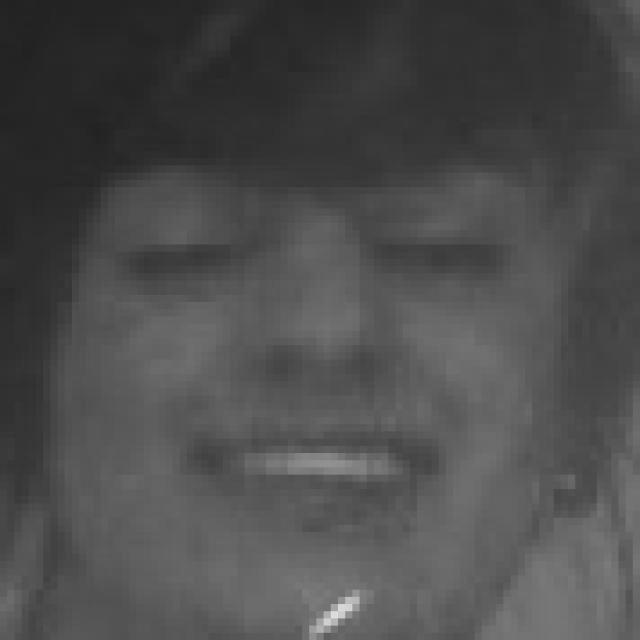real: (50, 158, 568, 640), (112, 204, 516, 306)
